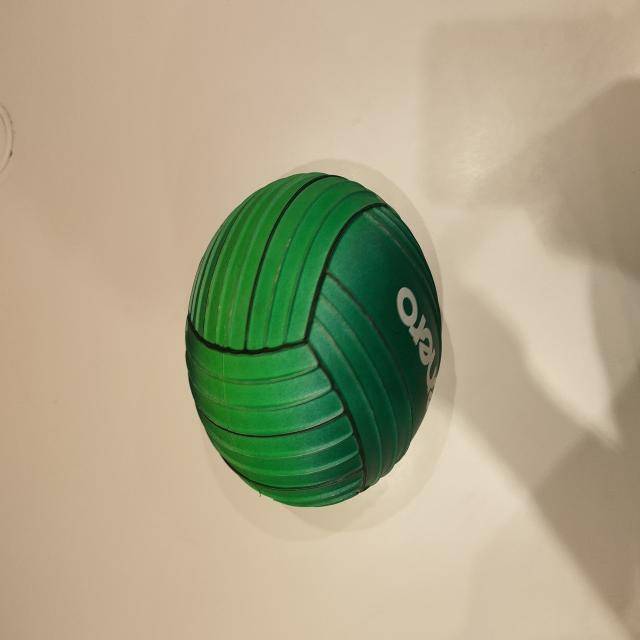zielona: (185, 171, 443, 507)
